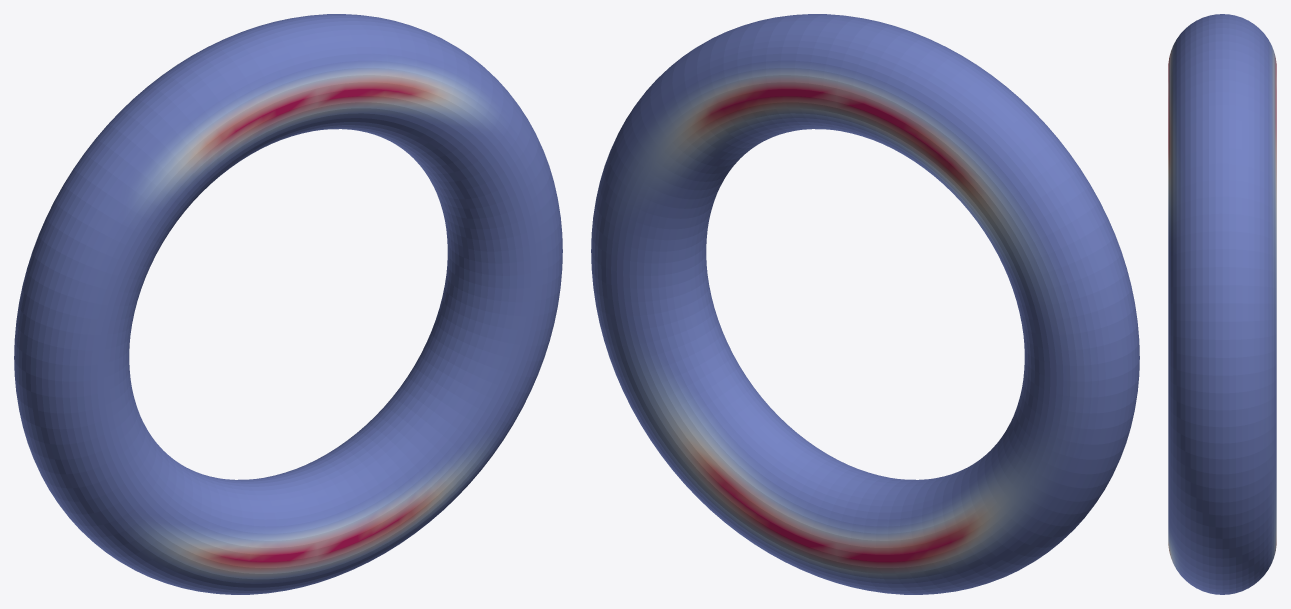
3 views of the same model, side by side, from view 1: azimuth 30°, elevation 25°; view 2: azimuth 150°, elevation 25°; view 3: azimuth 270°, elevation 25° (orthographic). The views are drawn at different scales.
Parts seen in each view (by area): view 1: world; view 2: world; view 3: world.
Boxes of the visible parts, x1=… form: world: x1=14, y1=14, x2=562, y2=594; world: x1=591, y1=14, x2=1139, y2=594; world: x1=1168, y1=14, x2=1276, y2=594.
Size of the model in its own units: 16.4 by 16.4 by 3.06.
